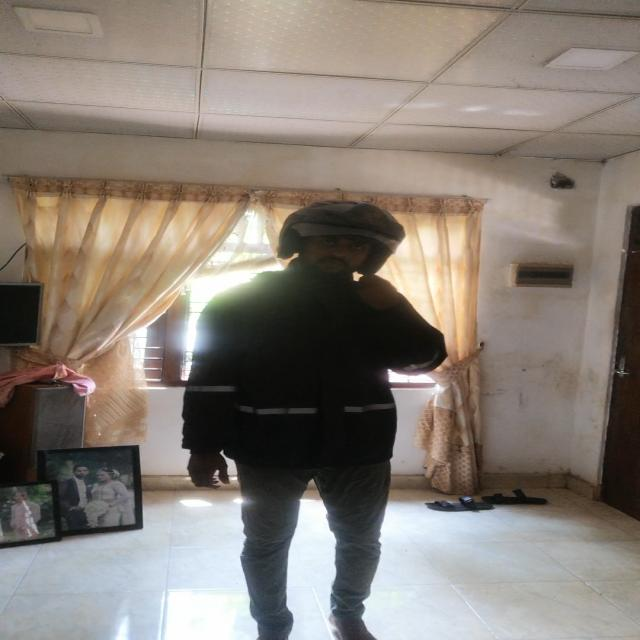Helmet_Wearer: (264, 192, 412, 294)
Jacket_Wearer: (186, 262, 450, 488)
Person: (180, 193, 444, 640)
